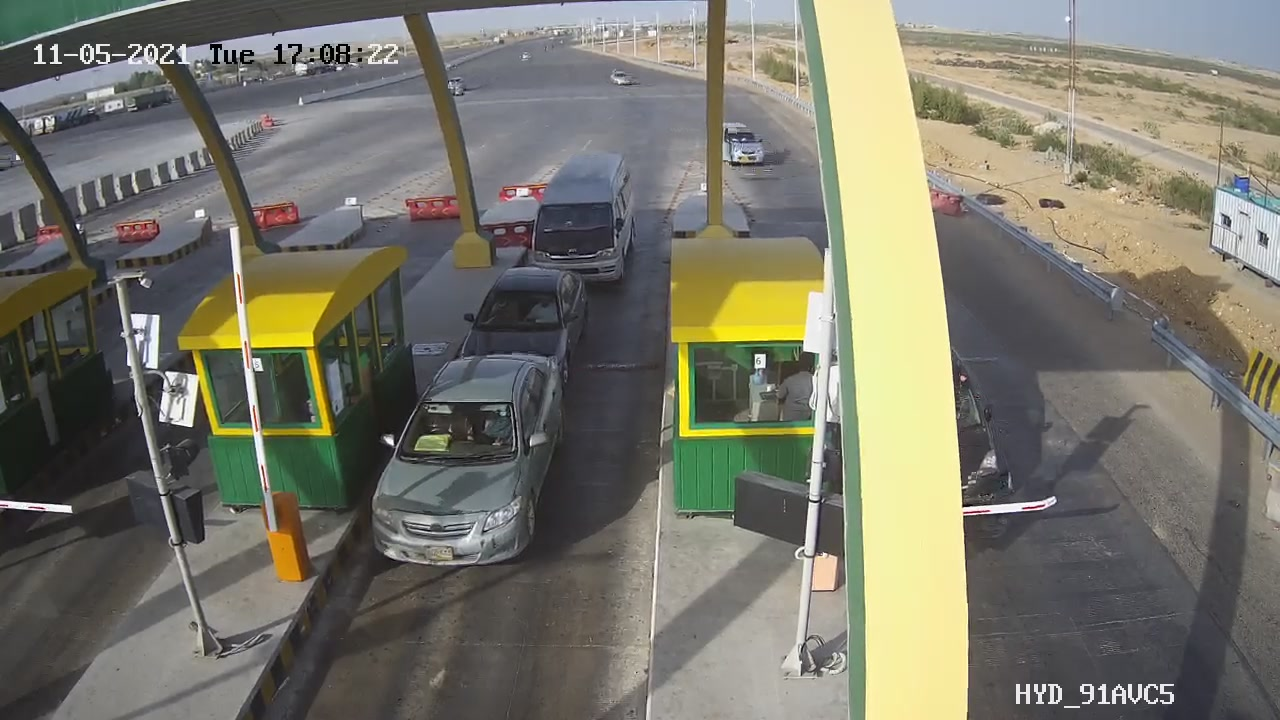F1: (352, 334, 585, 590)
